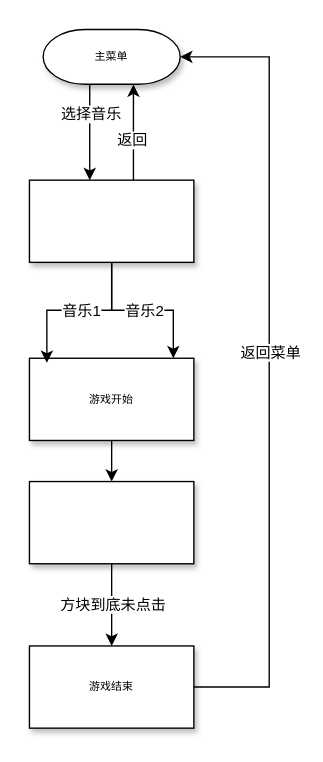
Some shapes in this 323 by 762 pixel diagram are drawn without their labels. Each missing label, with the centre of its shape:
游戏进行: (x=112, y=524)
音乐选择: (x=112, y=222)
